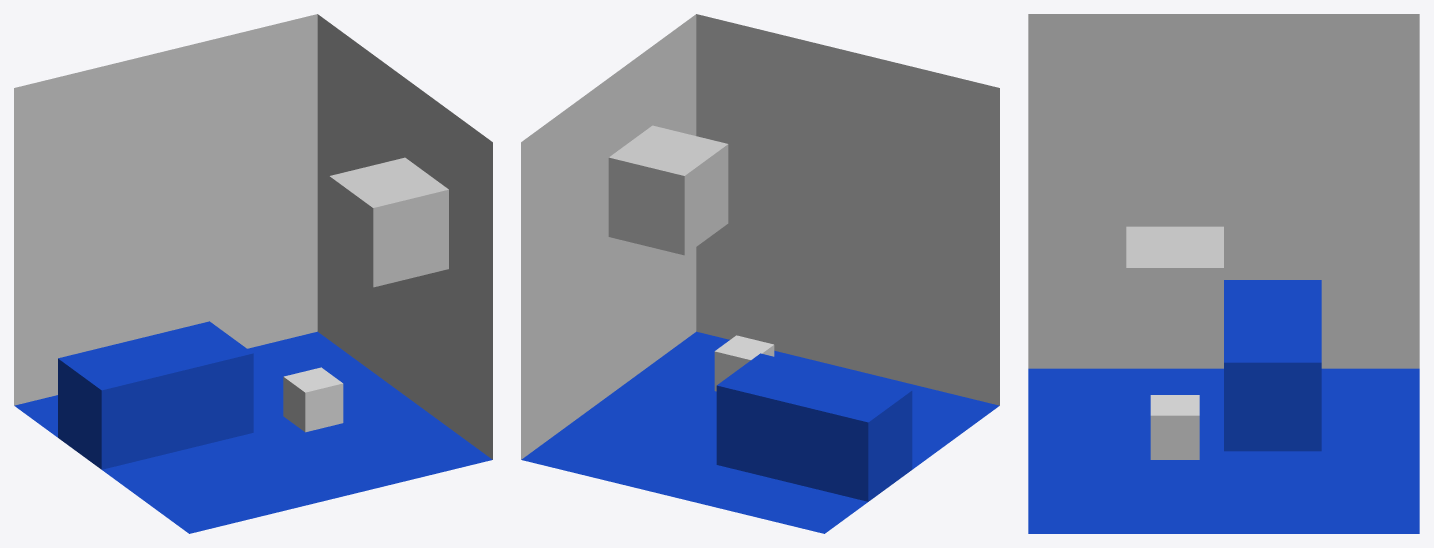
The picture shows the model from 3 angles, left to right: view 1: azimuth 30°, elevation 25°; view 2: azimuth 150°, elevation 25°; view 3: azimuth 270°, elevation 25°; orthographic projection. The views are drawn at different scales.
Visible parts, largest first — view 1: Room, Heart; view 2: Room, Heart; view 3: Room, Heart.
Boxes of the visible parts, bbox=[...] form: Room: bbox=[14, 14, 492, 533]; Heart: bbox=[283, 367, 343, 432]; Room: bbox=[521, 14, 999, 533]; Heart: bbox=[714, 335, 774, 391]; Room: bbox=[1028, 14, 1419, 533]; Heart: bbox=[1150, 395, 1199, 459].
Size of the model in its own units: 4 by 4 by 4.
